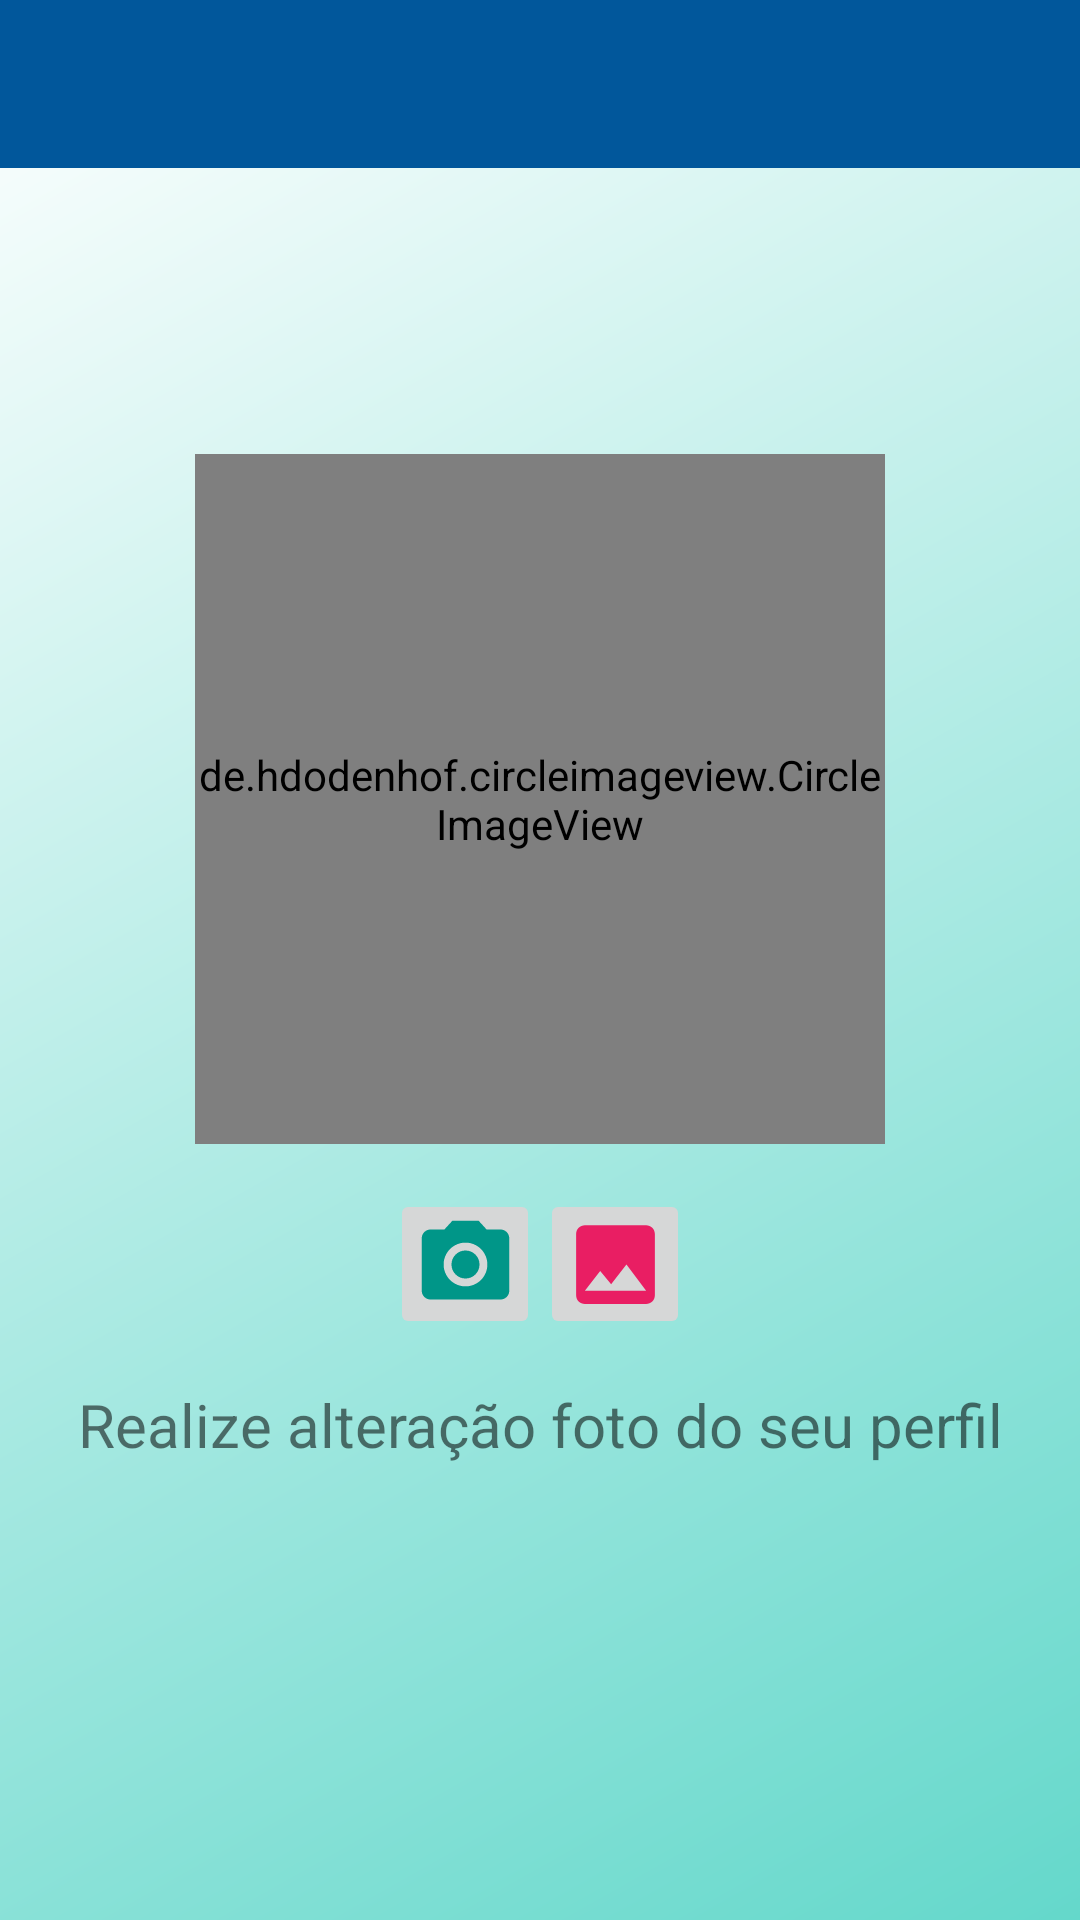

Point at icon controls on the screen. Image size 1080px×1920px, points as [x,y].
camera: [465,1264]
galeria: [615,1264]
